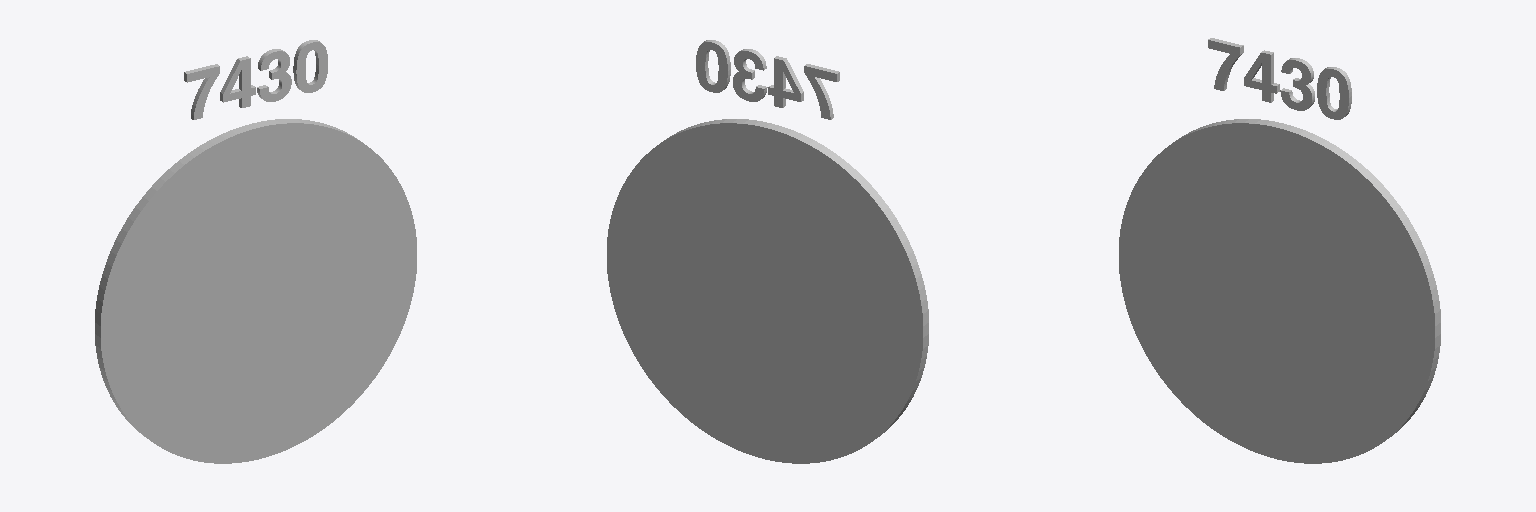
Rendered from TAZO_CODIGO_7430.obj.
3 views of the same model, side by side, from view 1: azimuth 30°, elevation 25°; view 2: azimuth 150°, elevation 25°; view 3: azimuth 330°, elevation 25° (orthographic).
Visible parts, largest first — view 1: CARA_FRONTAL, 7430, EXTRUDE; view 2: CARA_TRASERA, 7430, EXTRUDE; view 3: CARA_FRONTAL, 7430, EXTRUDE.
Boxes of the visible parts, box(x1,y1,x2,y2) form: CARA_FRONTAL: box(101, 123, 416, 463); 7430: box(184, 40, 327, 119); EXTRUDE: box(95, 119, 362, 436); CARA_TRASERA: box(607, 123, 922, 463); 7430: box(696, 40, 839, 119); EXTRUDE: box(661, 119, 928, 436); CARA_FRONTAL: box(1119, 123, 1434, 463); 7430: box(1208, 38, 1351, 119); EXTRUDE: box(1173, 119, 1440, 436).
Bounding box in the file's own units: 3002 × 3644 × 98.07.